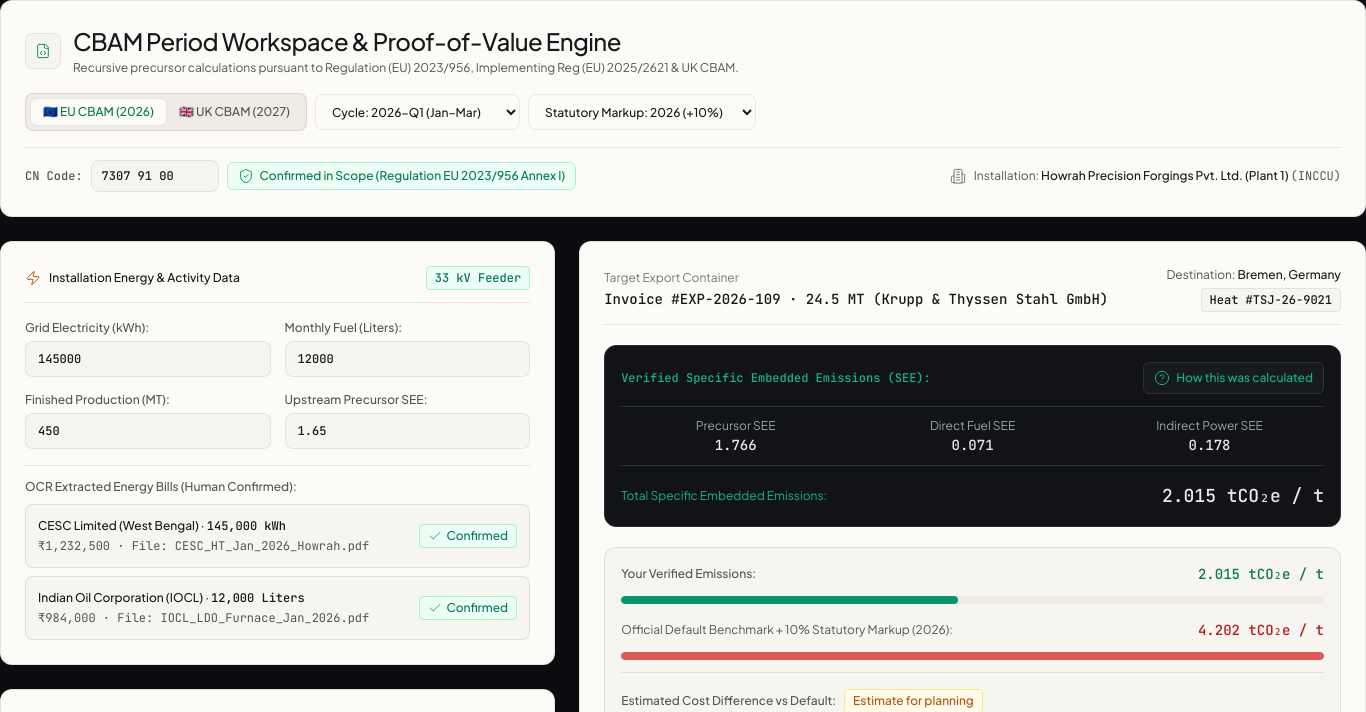
Test: Prompt P6: Period-Based CBAM Workspace & Proof-of-Value Engine › toggles jurisdiction between EU CBAM and UK CBAM
The width and height of the screenshot is (1366, 712).
Click the button "🇬🇧 UK CBAM (2027)" at (234, 112), box [167, 98, 302, 126]
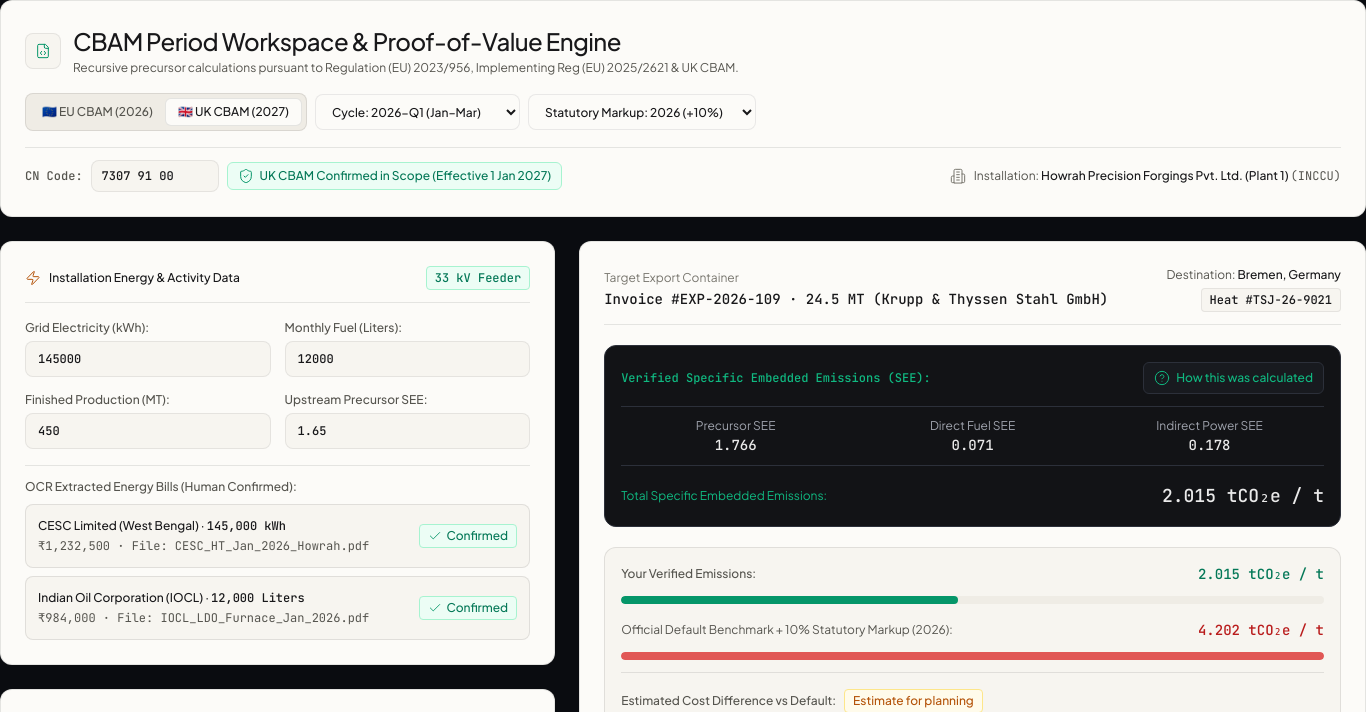
Result: the text "UK CBAM Confirmed in Scope (Effective 1 Jan 2027)" is shown at [227, 162, 562, 190]
Click the button "🇪🇺 EU CBAM (2026)" at (97, 112), box [30, 98, 165, 126]
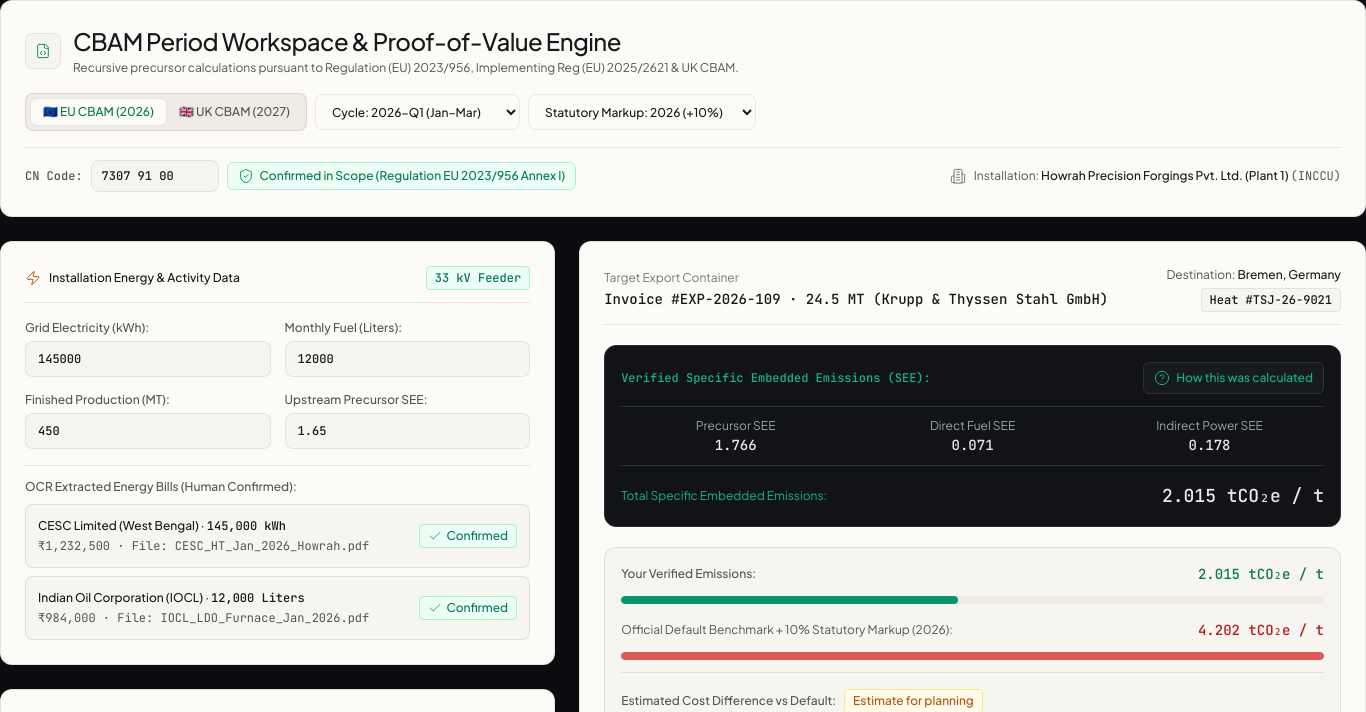
Result: the text "Confirmed in Scope (Regulation EU 2023/956 Annex I)" is shown at [227, 162, 576, 190]
